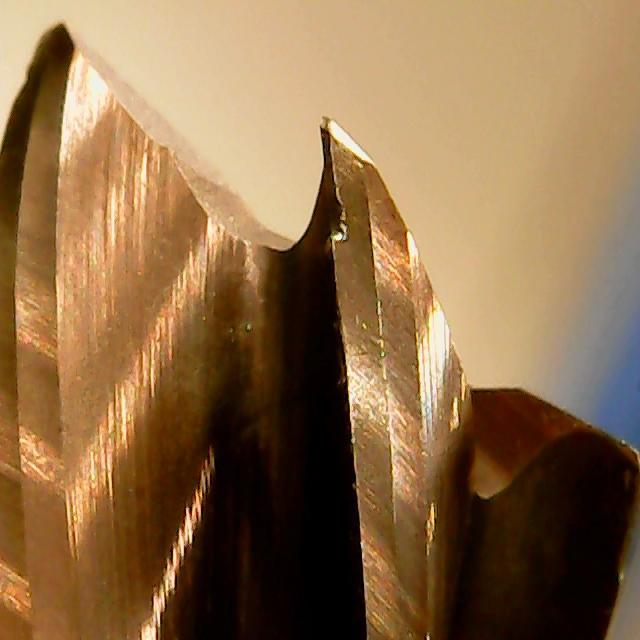Tool-wear-class-2: (298, 113, 446, 404)
